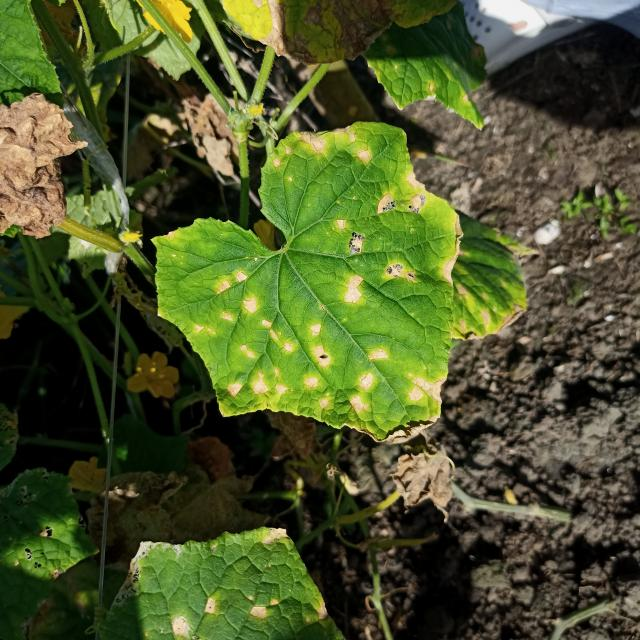disease_cucumber: (191, 120, 464, 441)
